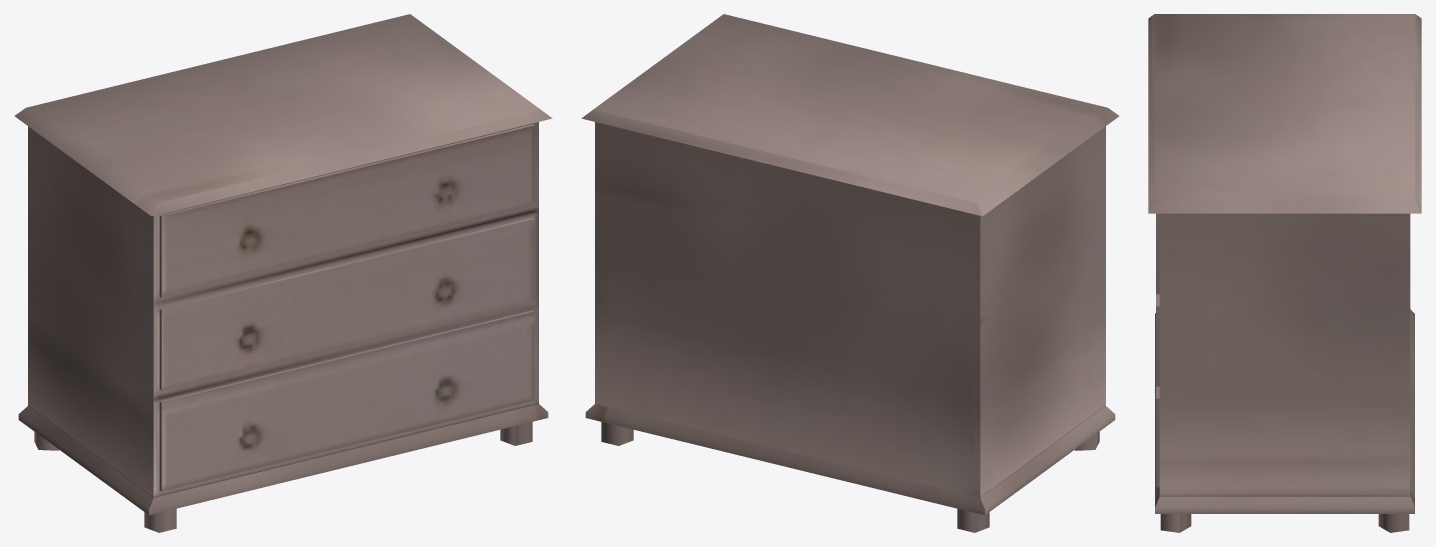
File: Dresser.glb
The picture shows the model from 3 angles, left to right: view 1: azimuth 30°, elevation 25°; view 2: azimuth 150°, elevation 25°; view 3: azimuth 270°, elevation 25°; orthographic projection.
Parts seen in each view (by area): view 1: Chest_drawers_02, Chest_drawers_02.004, Chest_drawers_02.002, Chest_drawers_02.003; view 2: Chest_drawers_02; view 3: Chest_drawers_02, Chest_drawers_02.004, Chest_drawers_02.003.
Part boxes in pixels (box(x1,y1,x2,y2)): Chest_drawers_02: box(14, 14, 552, 532); Chest_drawers_02.004: box(159, 310, 534, 491); Chest_drawers_02.002: box(159, 124, 534, 297); Chest_drawers_02.003: box(159, 217, 534, 390); Chest_drawers_02: box(581, 14, 1119, 532); Chest_drawers_02: box(1148, 14, 1421, 532); Chest_drawers_02.004: box(1156, 386, 1159, 487); Chest_drawers_02.003: box(1156, 294, 1159, 386).
Bounding box in the file's own units: 1.2 × 0.9523 × 0.7108.
1 material, 1 textured.
